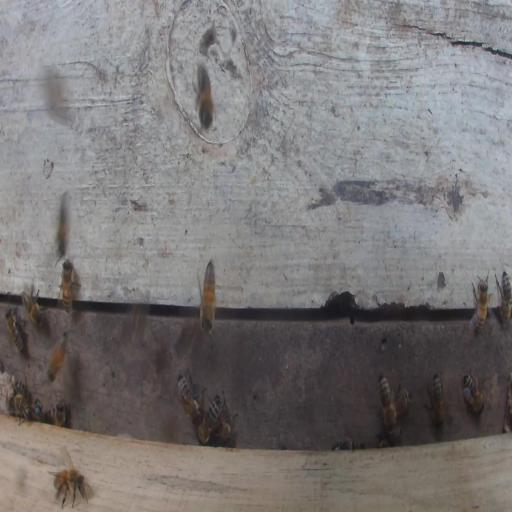nonpollenbee: (50, 458, 90, 508), (469, 270, 492, 337), (197, 258, 216, 336), (177, 370, 204, 423), (194, 64, 214, 129), (424, 371, 446, 428), (378, 373, 398, 435), (197, 394, 222, 443), (215, 393, 238, 444), (47, 331, 69, 381), (20, 287, 45, 328), (462, 371, 484, 415), (5, 307, 24, 355), (56, 193, 70, 256), (497, 269, 512, 325), (61, 259, 74, 313), (9, 393, 31, 422), (394, 384, 410, 417), (379, 427, 402, 447), (15, 380, 31, 402), (54, 401, 67, 428), (31, 399, 43, 422)
